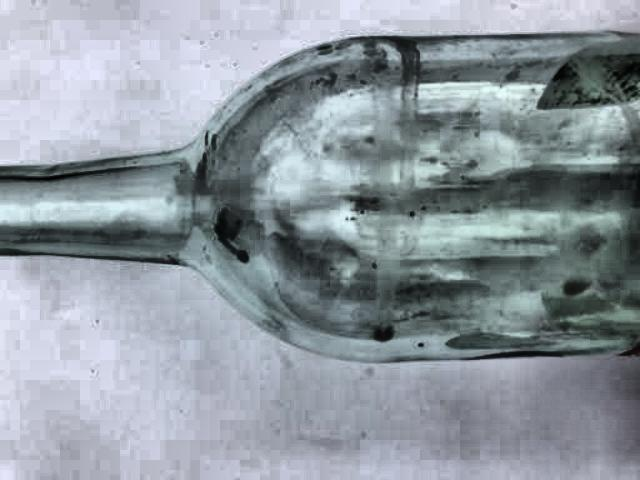Bottles: (0, 22, 640, 384)
